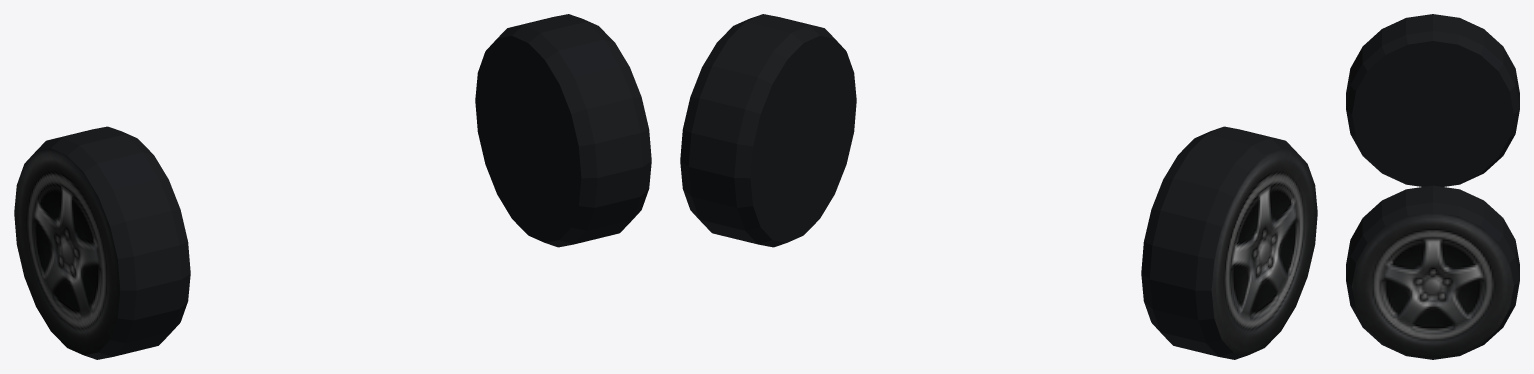
File: gtr_89_wheels_r.obj
The picture shows the model from 3 angles, left to right: view 1: azimuth 30°, elevation 25°; view 2: azimuth 150°, elevation 25°; view 3: azimuth 270°, elevation 25°; orthographic projection. The views are drawn at different scales.
Visible parts, largest first — view 1: gtr_89_wheels_r; view 2: gtr_89_wheels_r; view 3: gtr_89_wheels_r.
Boxes of the visible parts, x1,y1,x2,y2 form: gtr_89_wheels_r: (14,14,651,359); gtr_89_wheels_r: (680,14,1317,359); gtr_89_wheels_r: (1346,14,1519,359).
Bounding box in the file's own units: 1.7 × 0.6328 × 0.6328.
1 material, 1 textured.
